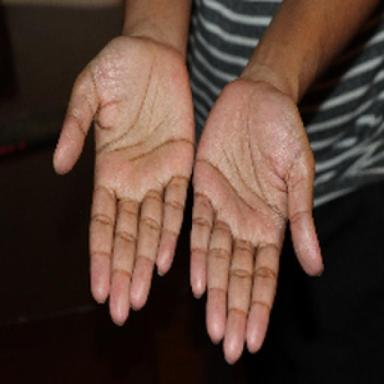normal skin: (53, 0, 378, 363)
